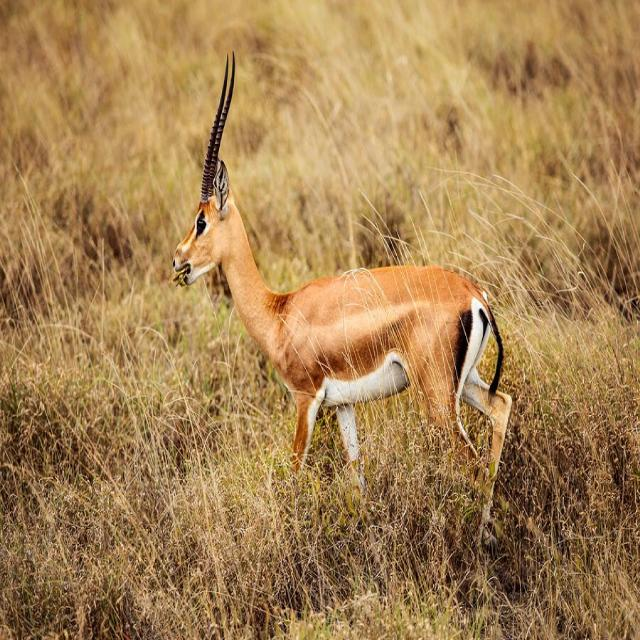Antelope: (171, 43, 516, 531)
